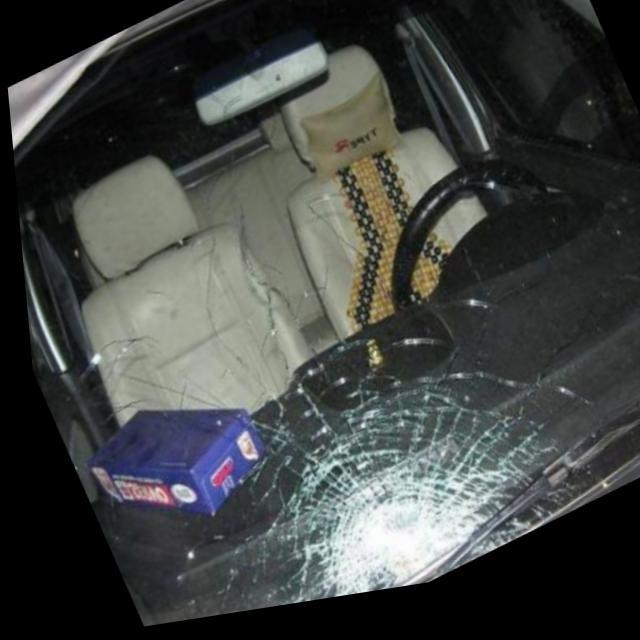glass shatter: (289, 426, 497, 608)
